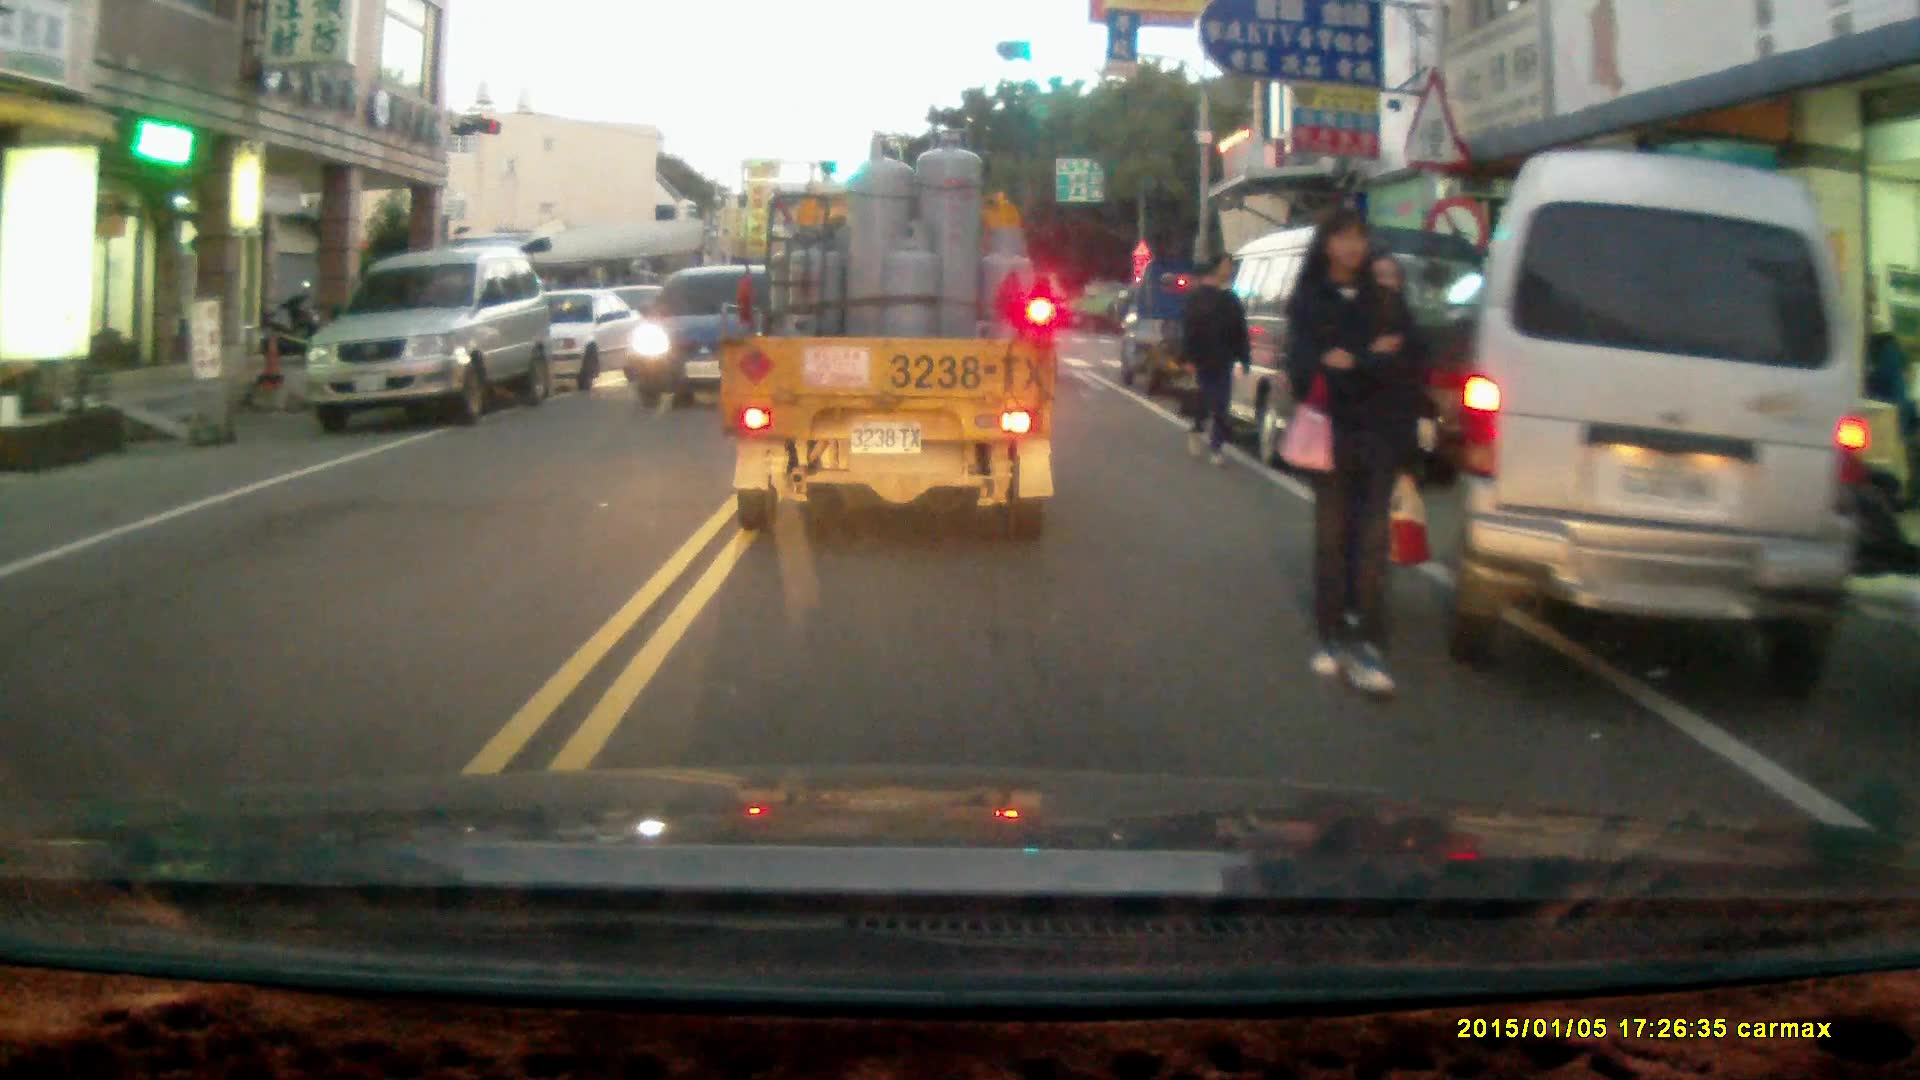pedestrian: (1283, 206, 1422, 694), (1174, 250, 1250, 471)
vehicle: (1445, 152, 1871, 694), (714, 127, 1056, 533), (1193, 215, 1503, 474), (309, 245, 559, 437), (627, 263, 778, 411), (1120, 250, 1244, 399), (489, 289, 648, 397)
